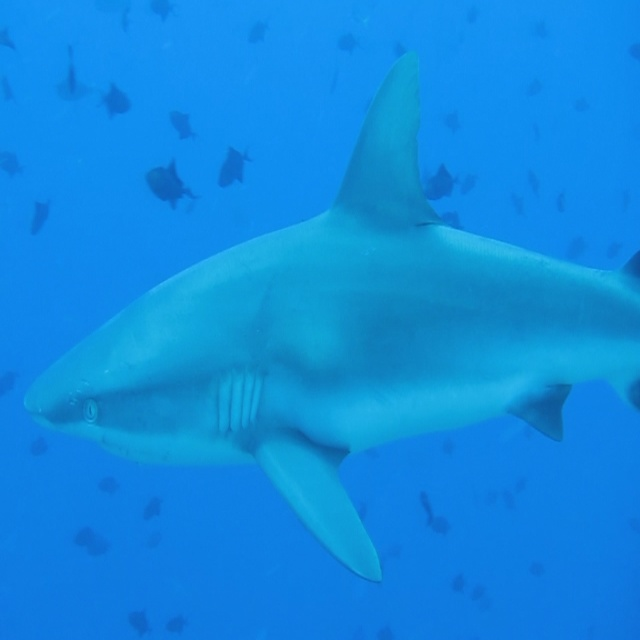Shark: (24, 52, 640, 582)
